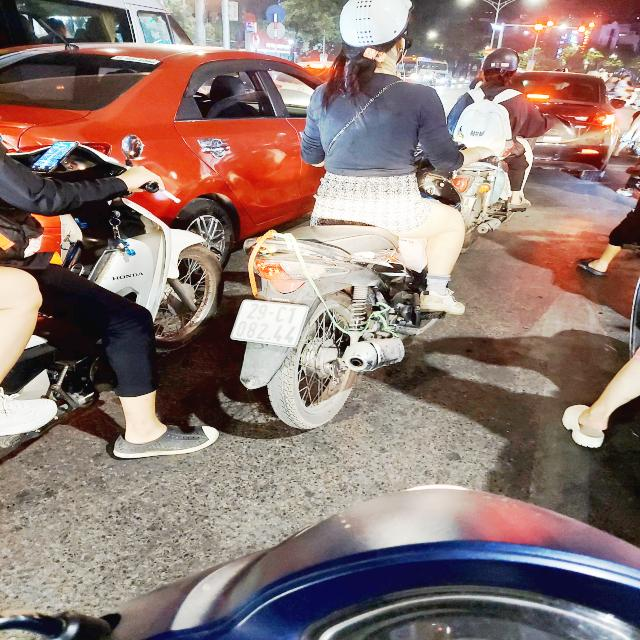license_plate: (224, 296, 319, 353)
